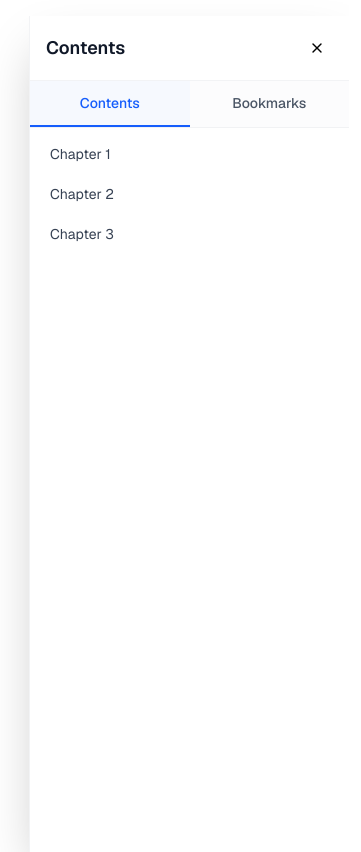
Scenario: ContentsAndBookmarksPanel › Bookmarks Tab › should display empty state when no bookmarks
The width and height of the screenshot is (361, 852).
Click the button "Bookmarks".
click(269, 104)  # box [190,81,349,127]
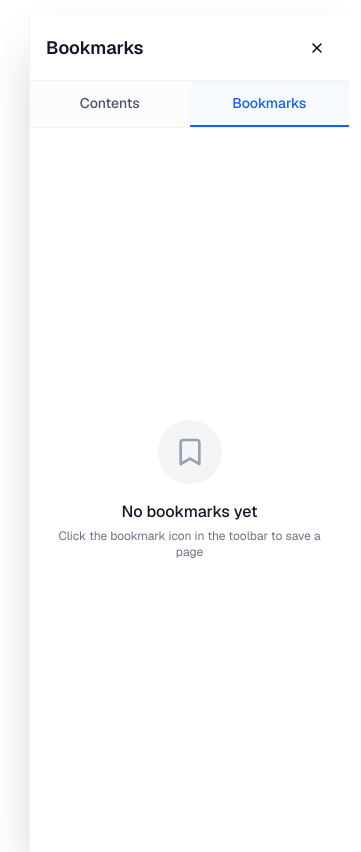
Expected: the text "No bookmarks yet" is shown, [122,500,258,524]
Expected: the text "Click the bookmark icon in the toolbar to save a page" is shown, [54,528,325,560]
